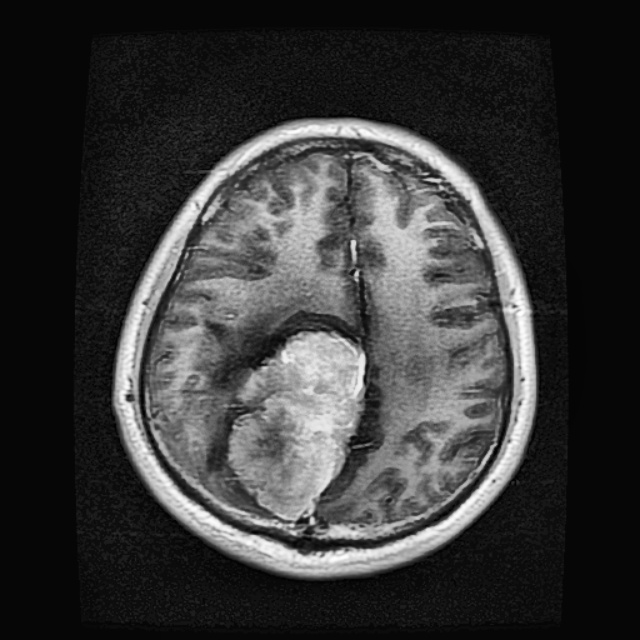Pituitary: (229, 327, 364, 518)
